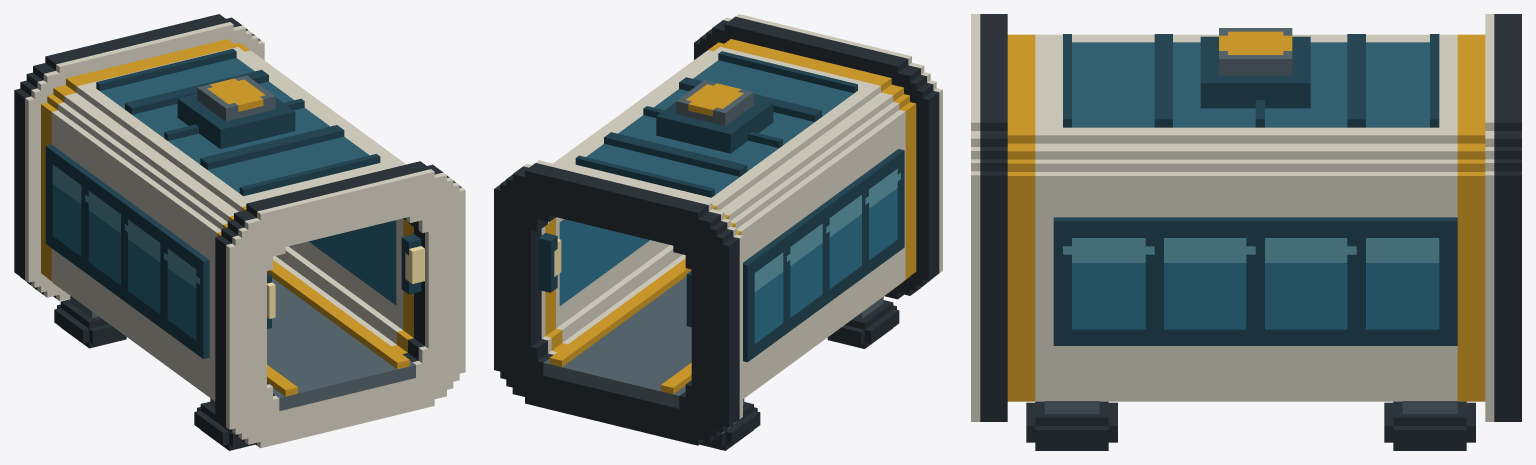
The model's file is connecting_tunnel.glb.
The picture shows the model from 3 angles, left to right: view 1: azimuth 30°, elevation 25°; view 2: azimuth 150°, elevation 25°; view 3: azimuth 270°, elevation 25°; orthographic projection. The views are drawn at different scales.
Visible parts, largest first — view 1: connecting_tunnel; view 2: connecting_tunnel; view 3: connecting_tunnel.
Boxes of the visible parts, bbox=[...] form: connecting_tunnel: bbox=[14, 14, 465, 450]; connecting_tunnel: bbox=[494, 14, 942, 450]; connecting_tunnel: bbox=[971, 14, 1521, 450].
Size of the model in its own units: 3.8 by 4.2 by 6.
